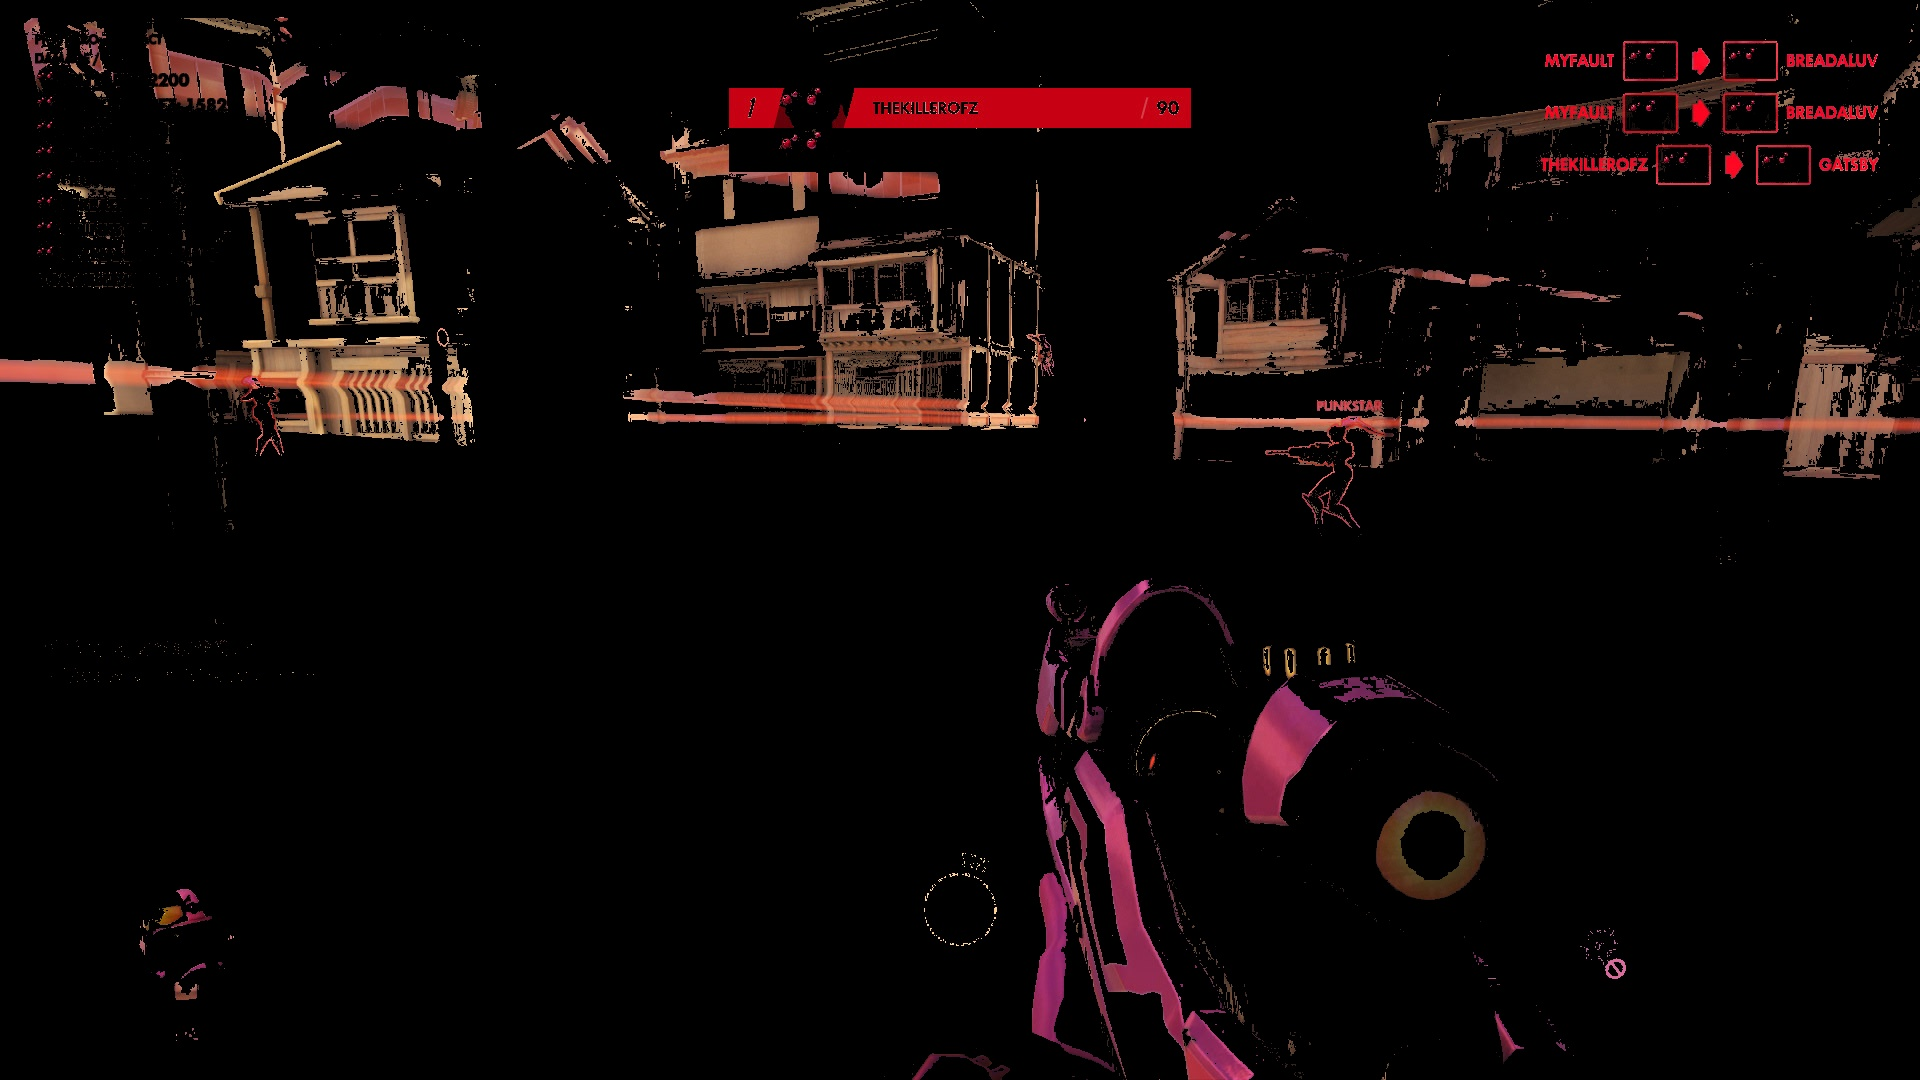widowmaker: (1280, 415, 1381, 546), (236, 369, 291, 477), (1025, 327, 1058, 384)
